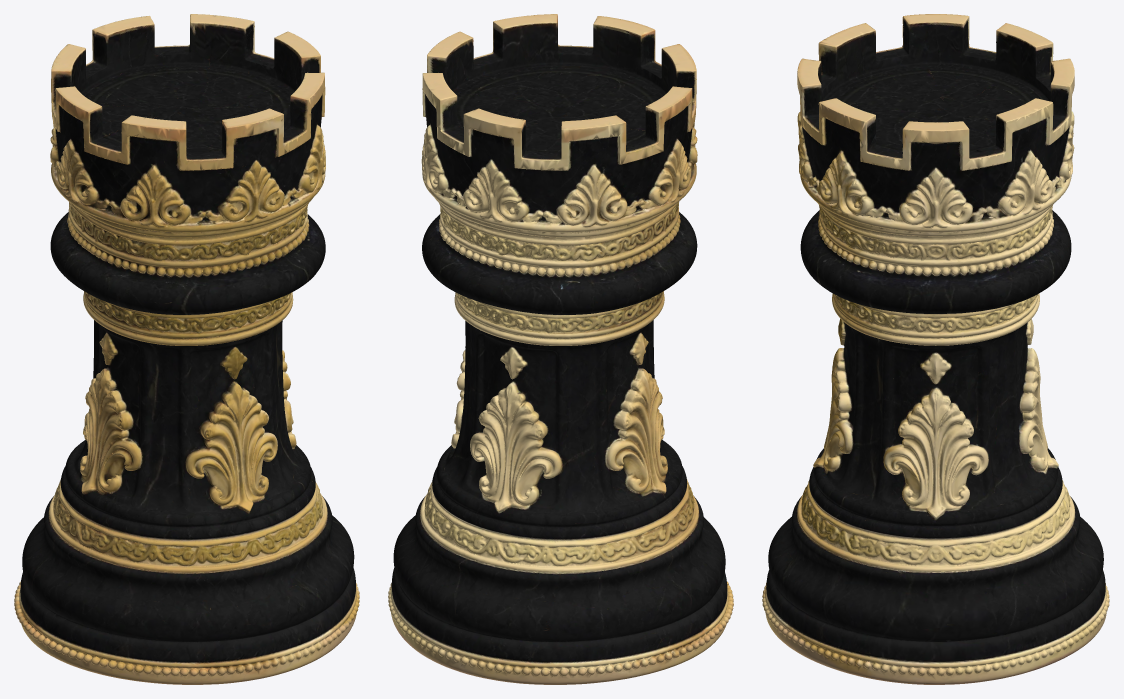
File: baroque_rook_black_opt.glb
3 views of the same model, side by side, from view 1: azimuth 30°, elevation 25°; view 2: azimuth 150°, elevation 25°; view 3: azimuth 270°, elevation 25° (orthographic).
Size of the model in its own units: 1.11 by 1.9 by 1.1.
1 material, 1 textured.
